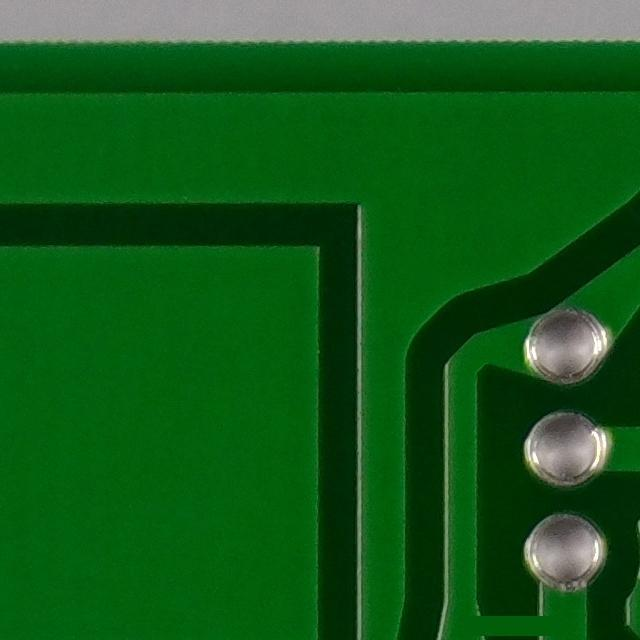short: (429, 577, 603, 640)
